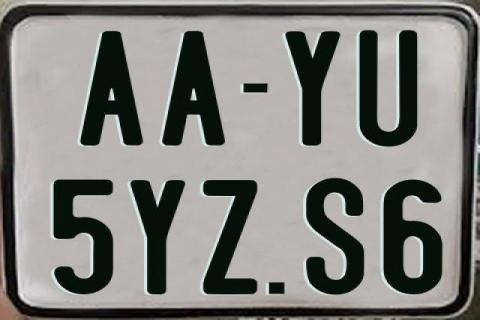0: (53, 177, 115, 293), (381, 178, 442, 294)
A: (162, 29, 230, 147), (77, 29, 145, 144)
S: (305, 177, 364, 297)
U: (357, 28, 419, 149)
Y: (130, 178, 191, 292), (282, 31, 337, 149)
Z: (201, 178, 261, 296)
